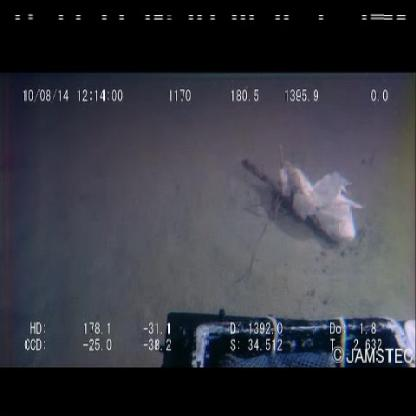Rác: (275, 155, 365, 252)
